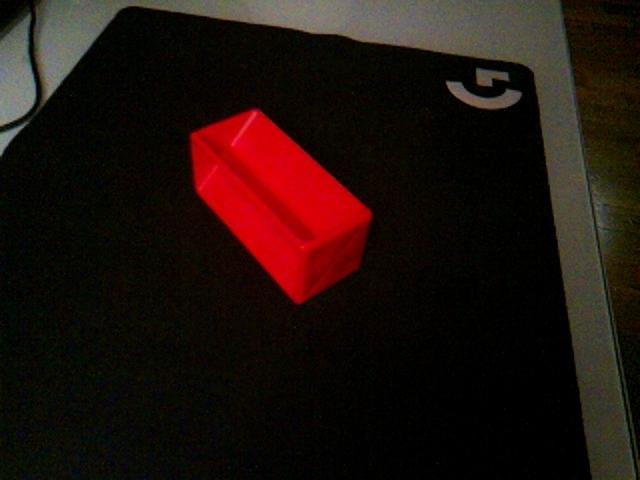red: (188, 106, 374, 306)
